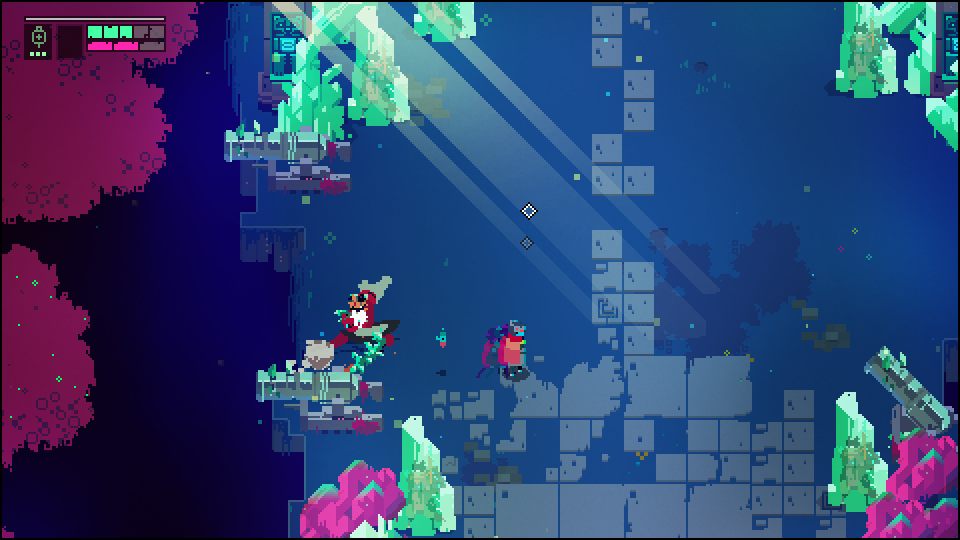hanged_man: (319, 277, 404, 391)
player: (505, 323, 533, 379)
